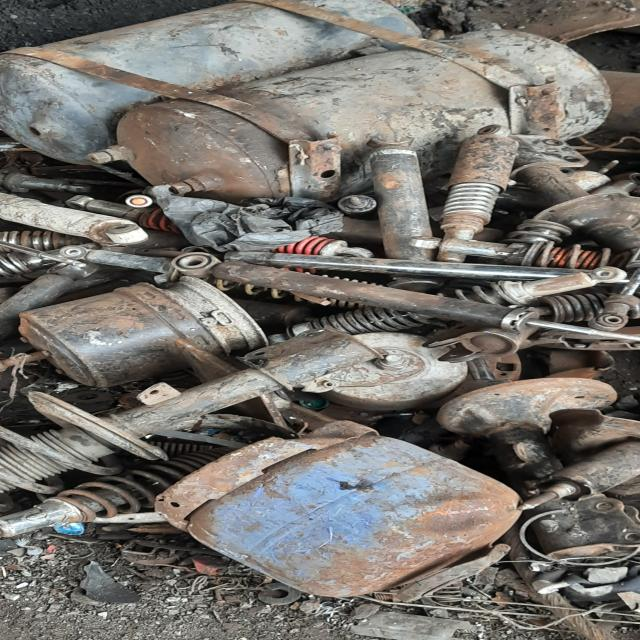Cylinder: (102, 18, 617, 226), (12, 0, 446, 163), (184, 434, 520, 598)
Shock-Absorbers: (261, 248, 623, 357), (24, 421, 258, 551), (413, 174, 512, 257)
